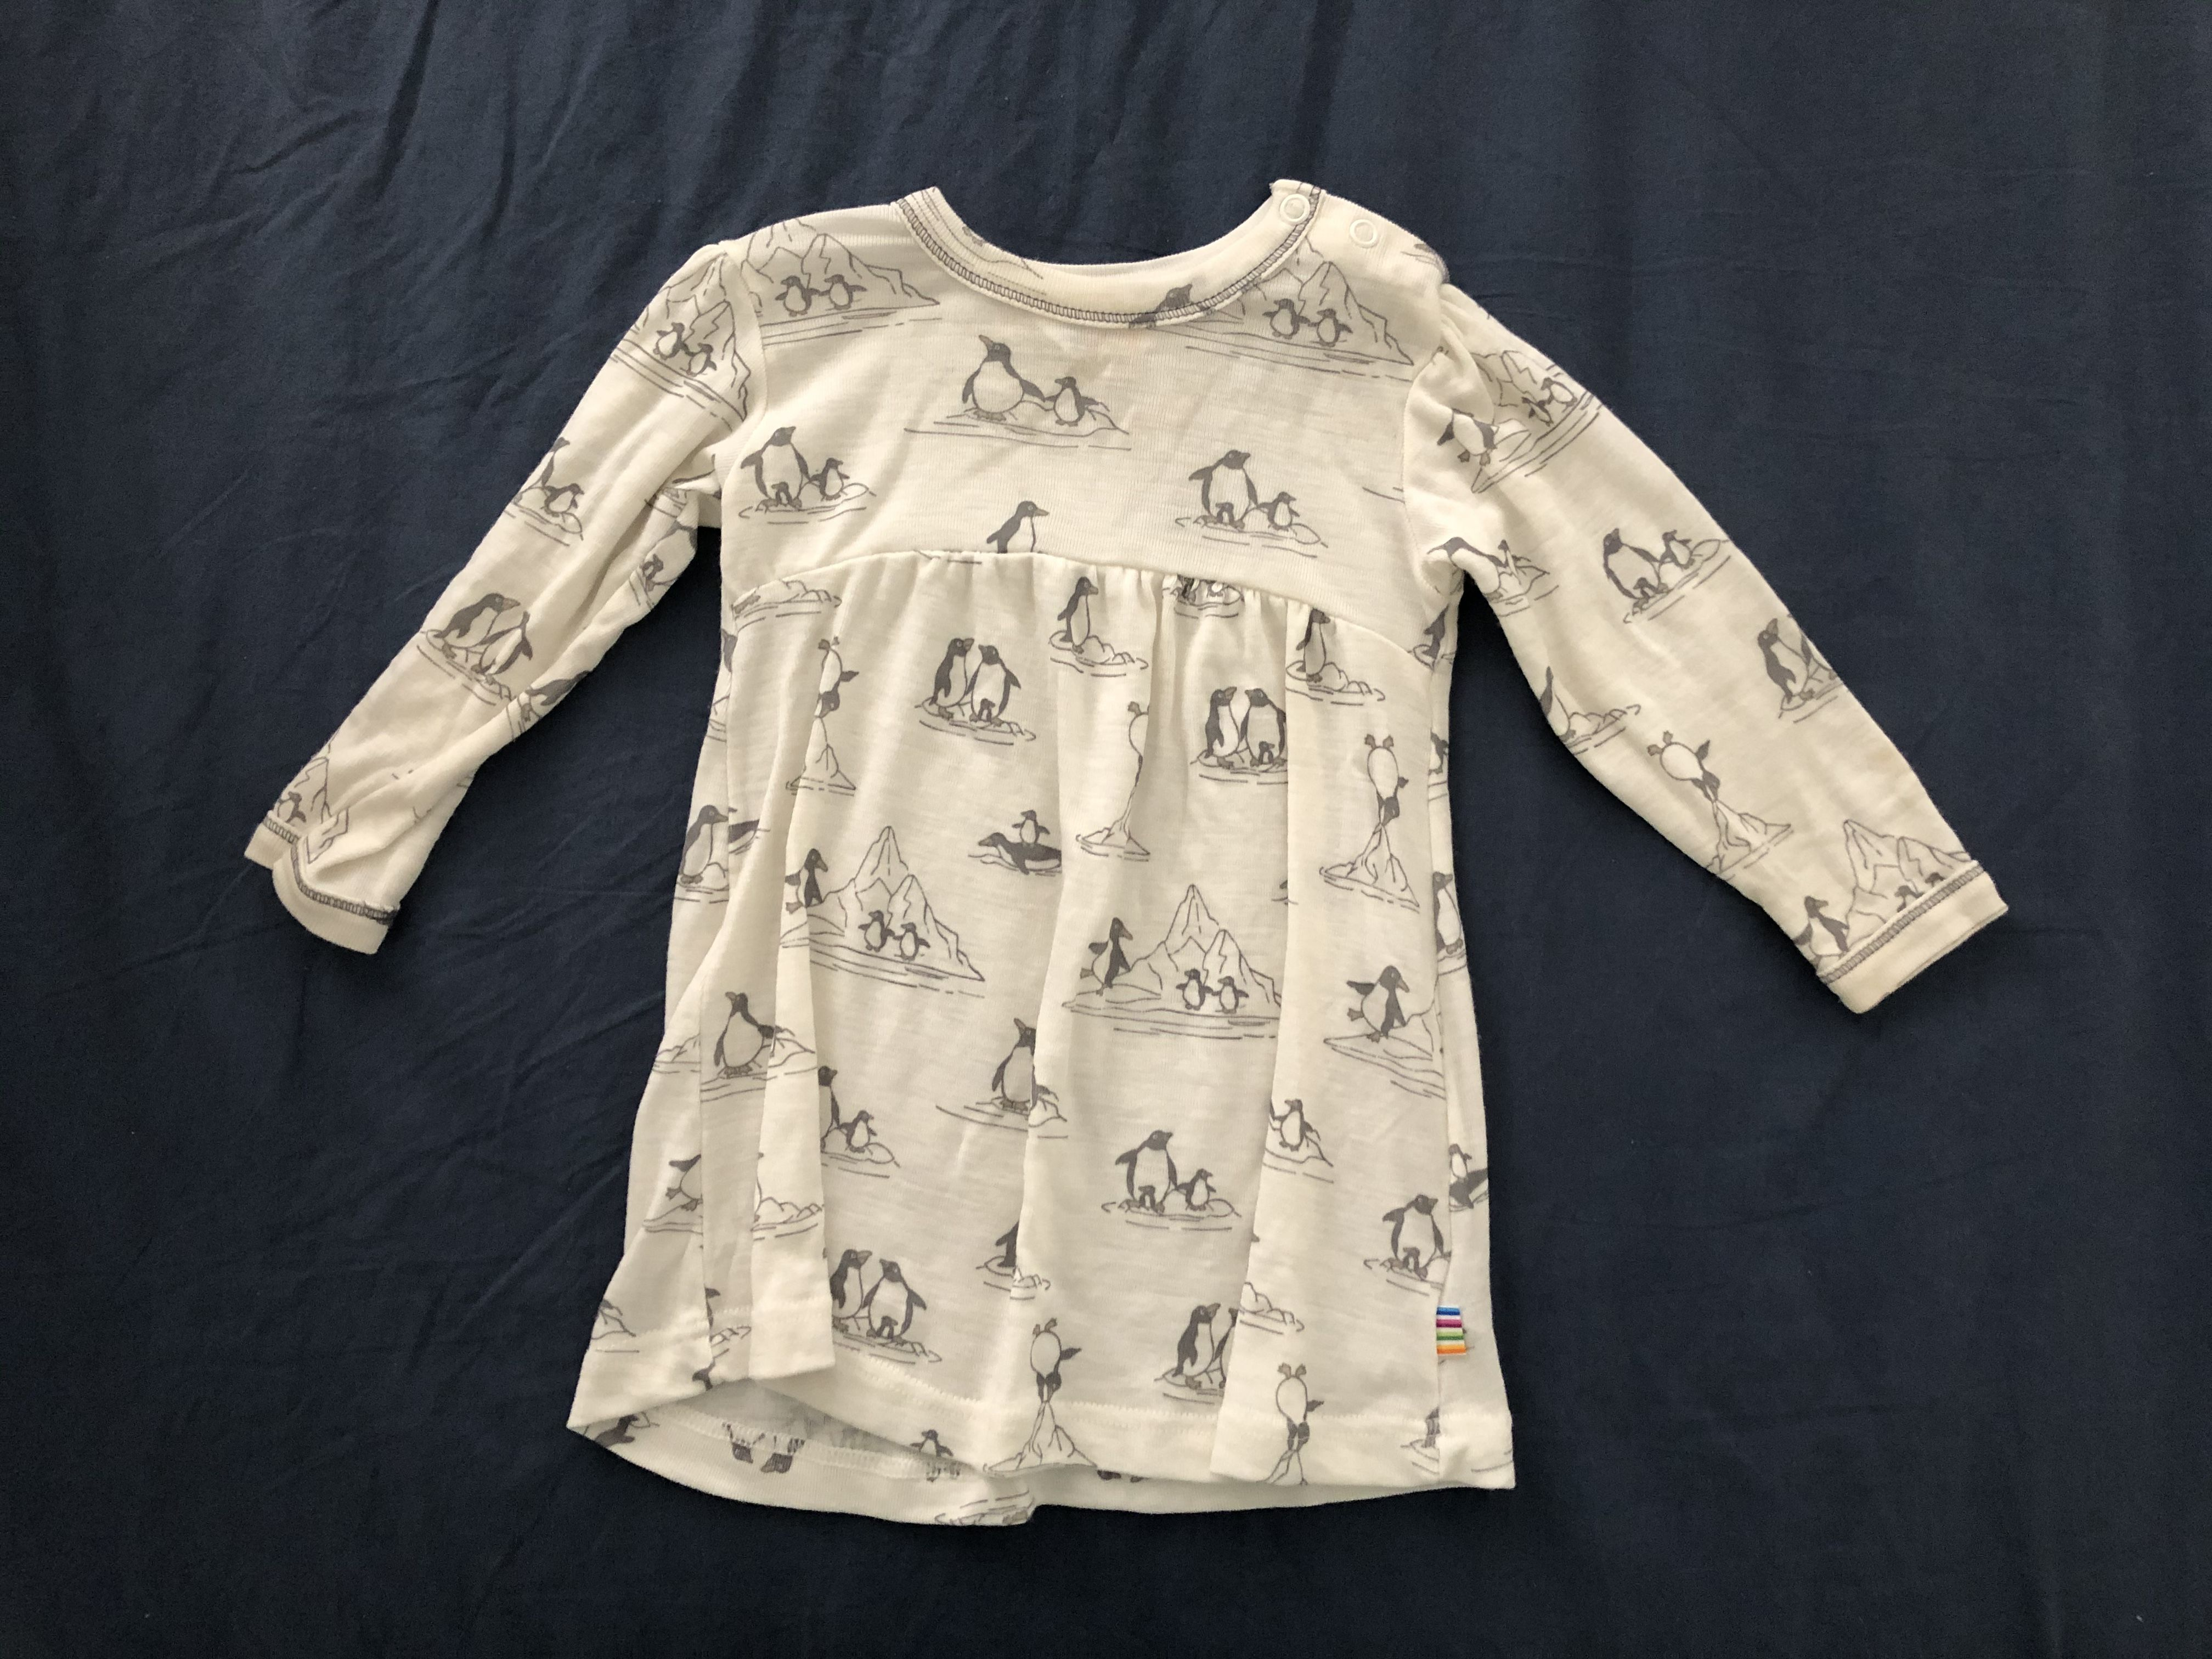clothes: (233, 171, 2017, 1556)
